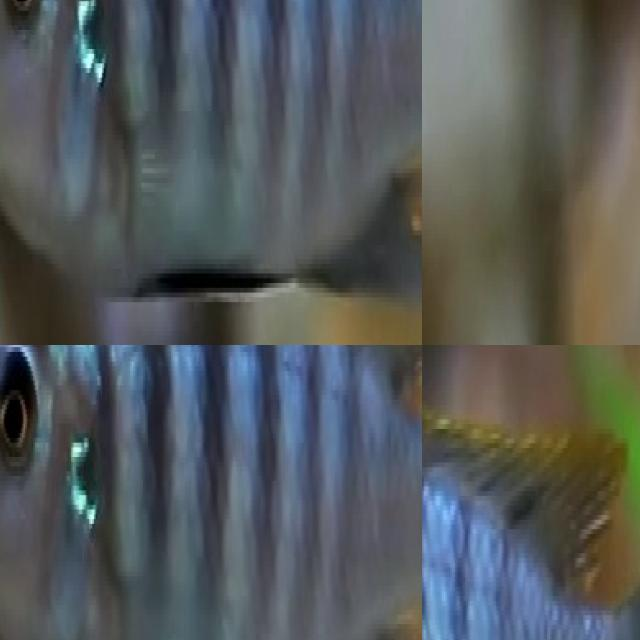fish: (0, 0, 422, 345), (0, 345, 422, 640), (422, 362, 640, 640)
